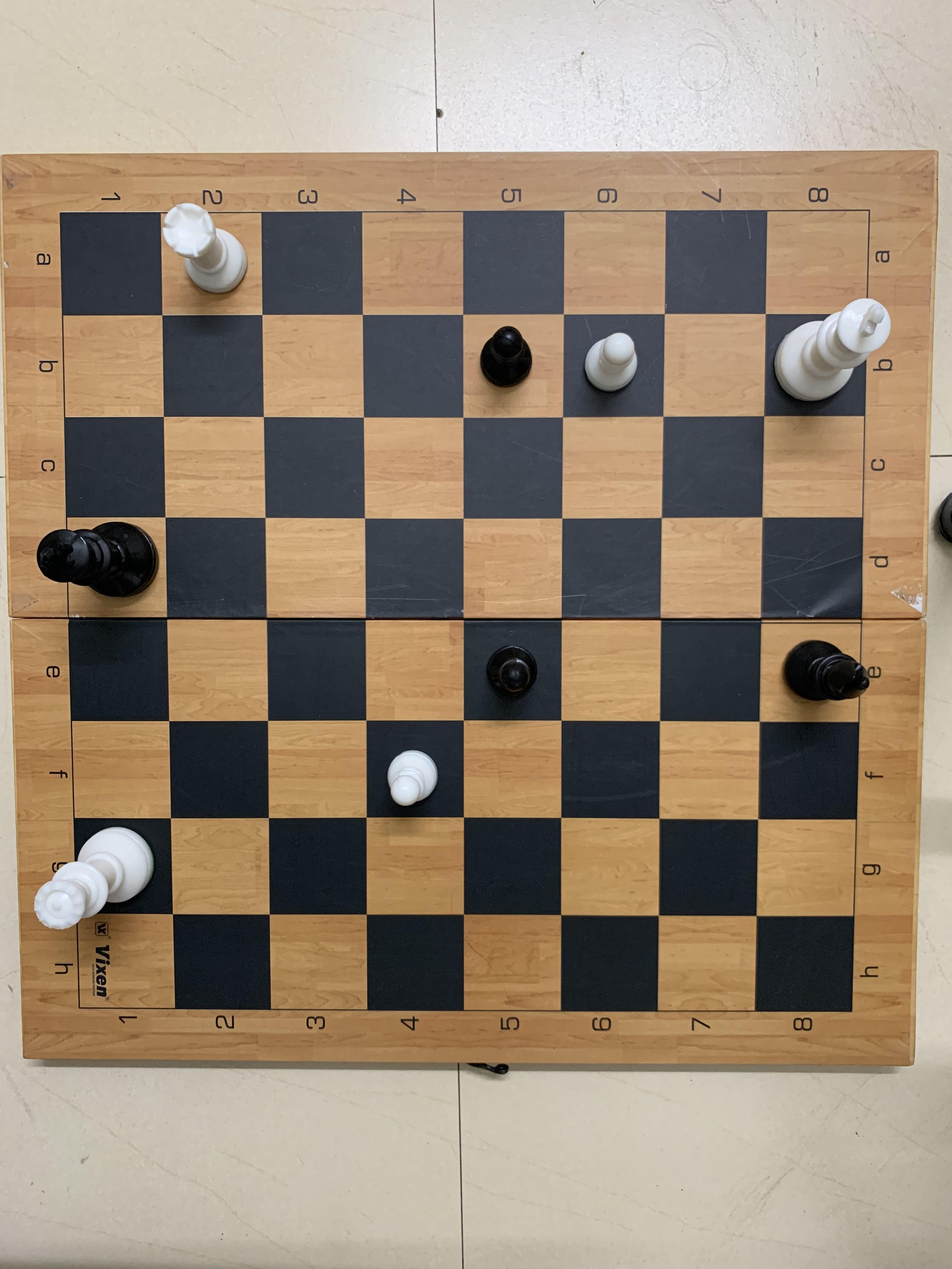black_bishop: (767, 625, 878, 722)
black_king: (30, 515, 164, 621)
black_pawn: (460, 322, 569, 414), (463, 619, 564, 716)
white_king: (771, 285, 895, 411)
white_pawn: (368, 716, 460, 822), (573, 312, 660, 405)
white_queen: (28, 814, 172, 955)
white_rook: (151, 191, 264, 317)
